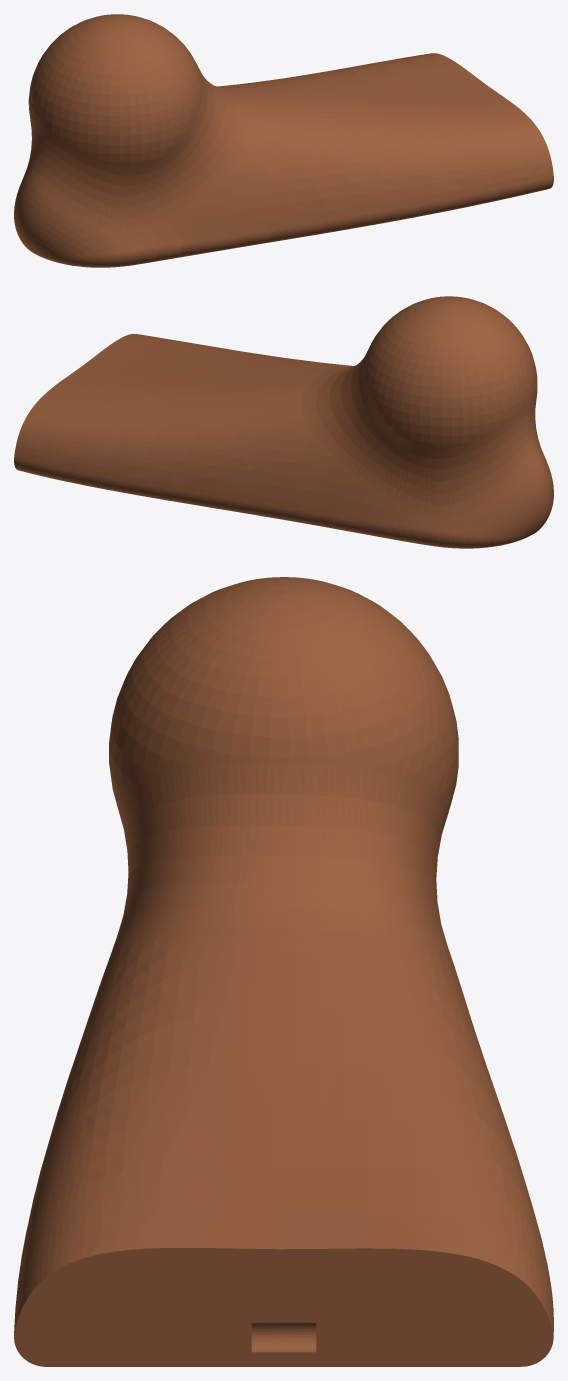
The model's file is l-foot.dae.
3 renders of one model, top to bottom at view 1: azimuth 30°, elevation 25°; view 2: azimuth 150°, elevation 25°; view 3: azimuth 270°, elevation 25°, orthographic. The views are drawn at different scales.
Visible parts, largest first — view 1: polySurface1; view 2: polySurface1; view 3: polySurface1.
Boxes of the visible parts, left/top/right/bottom form: polySurface1: left=14, top=14, right=553, bottom=267; polySurface1: left=14, top=296, right=553, bottom=548; polySurface1: left=14, top=577, right=553, bottom=1366.
Bounding box in the file's own units: 0.164 × 0.071 × 0.0832.
